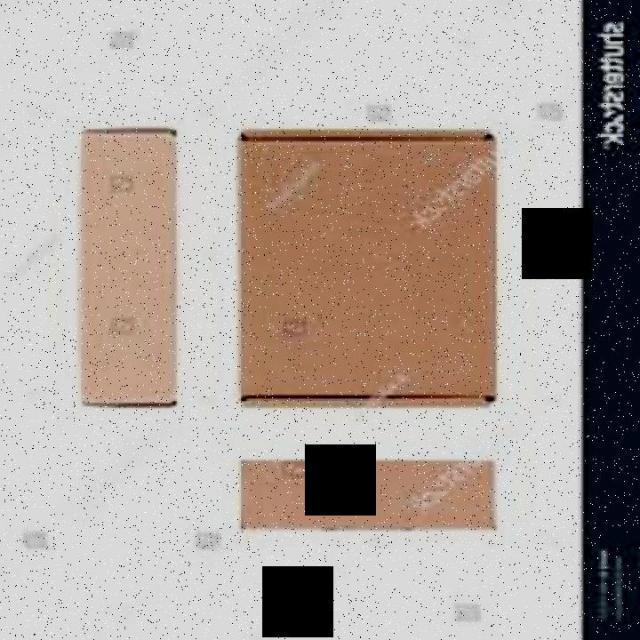box: (232, 124, 510, 410), (70, 126, 188, 431), (234, 458, 512, 540)
